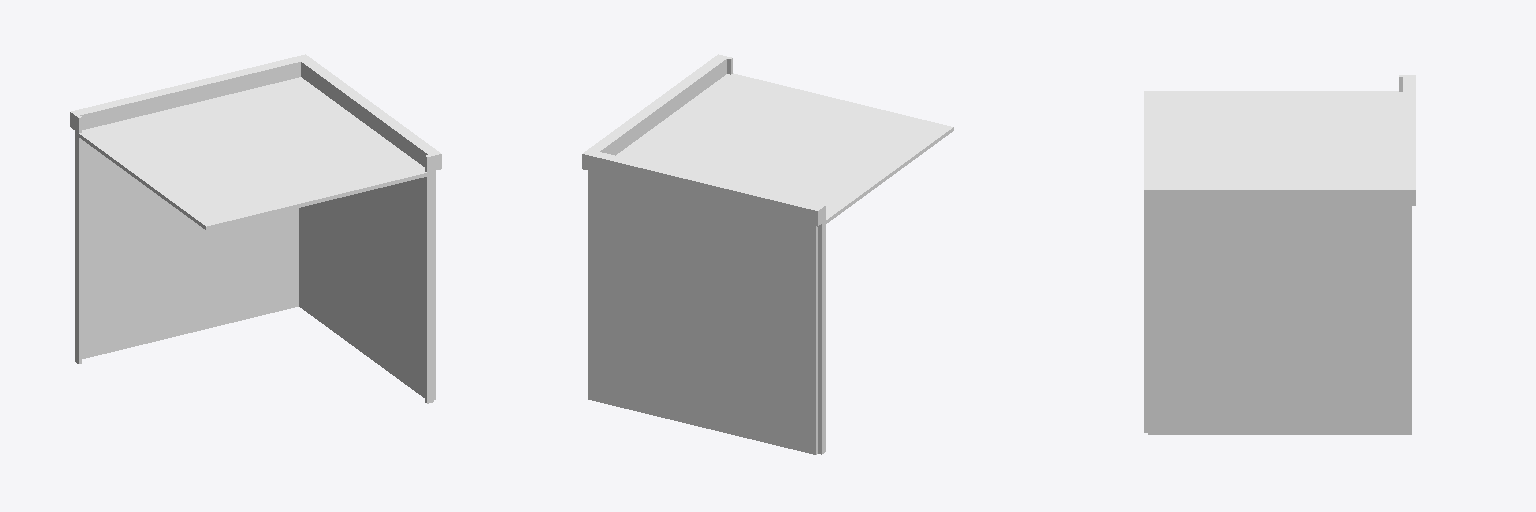
File: modern_glass_wall_t_corner.obj
3 views of the same model, side by side, from view 1: azimuth 30°, elevation 25°; view 2: azimuth 150°, elevation 25°; view 3: azimuth 270°, elevation 25° (orthographic).
Size of the model in its own units: 64 by 64 by 64.